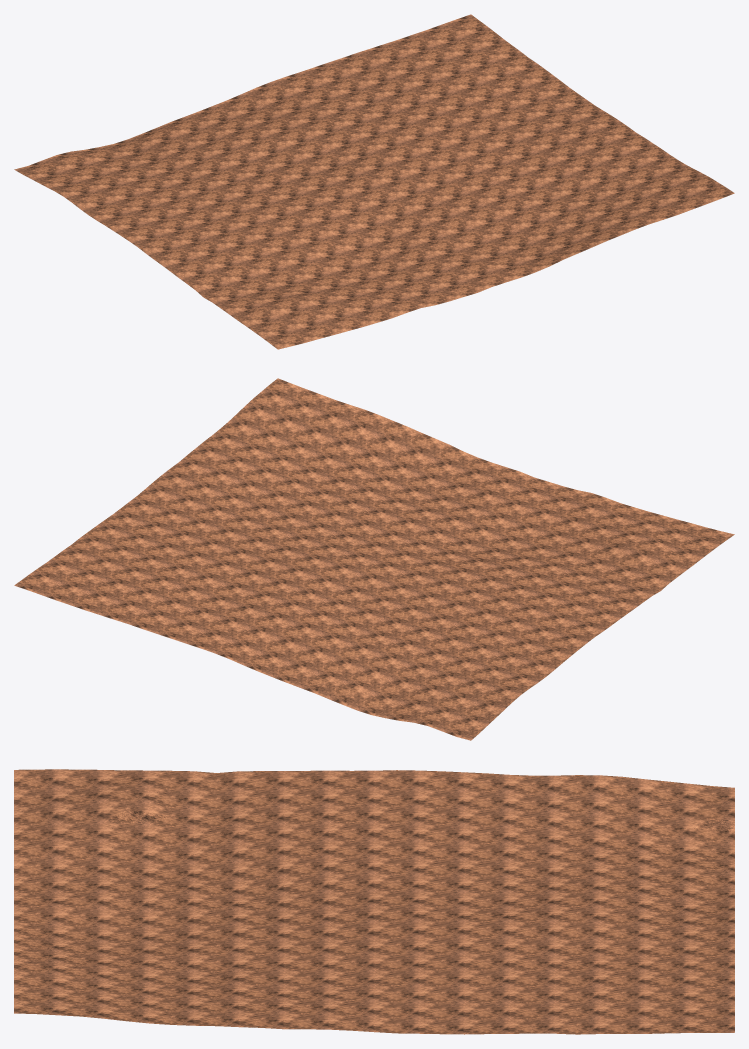
The model's file is terrain_01_16.dae.
The picture shows the model from 3 angles, top to bottom: view 1: azimuth 30°, elevation 25°; view 2: azimuth 150°, elevation 25°; view 3: azimuth 270°, elevation 25°; orthographic projection. The views are drawn at different scales.
Visible parts, largest first — view 1: terrain_01_16-node; view 2: terrain_01_16-node; view 3: terrain_01_16-node.
Boxes of the visible parts, x1,y1,x2,y2 form: terrain_01_16-node: (14, 14, 734, 349); terrain_01_16-node: (14, 378, 734, 740); terrain_01_16-node: (14, 769, 734, 1034).
Size of the model in its own units: 128 by 128 by 15.48.
Materials: 1 (1 with a texture image).
